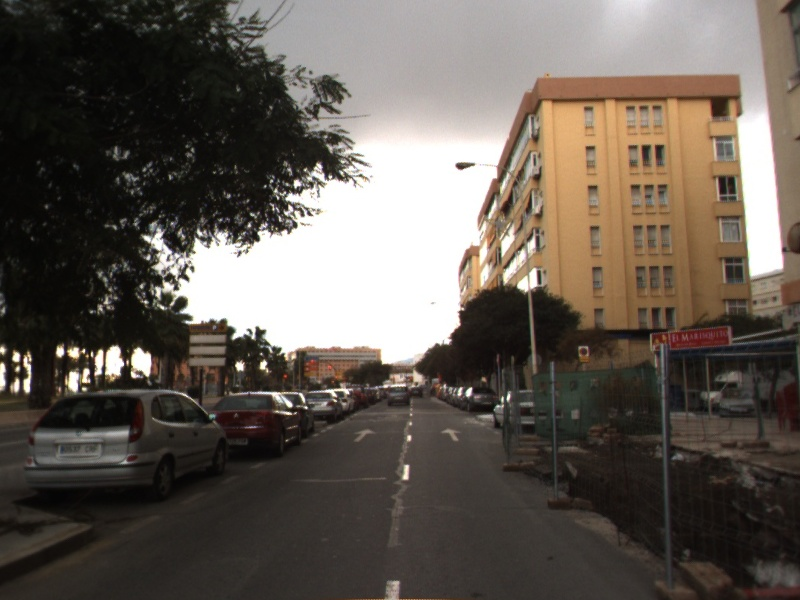STRAIGHT: (352, 427, 378, 443), (440, 426, 463, 442)
